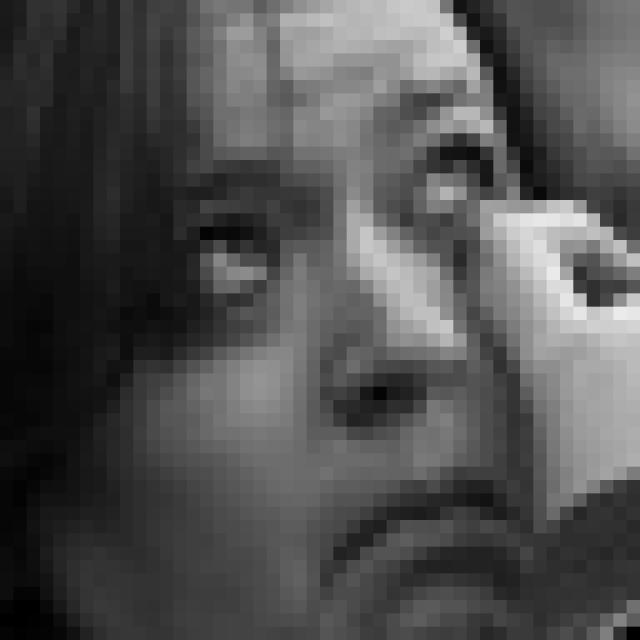sad: (182, 75, 537, 640)
